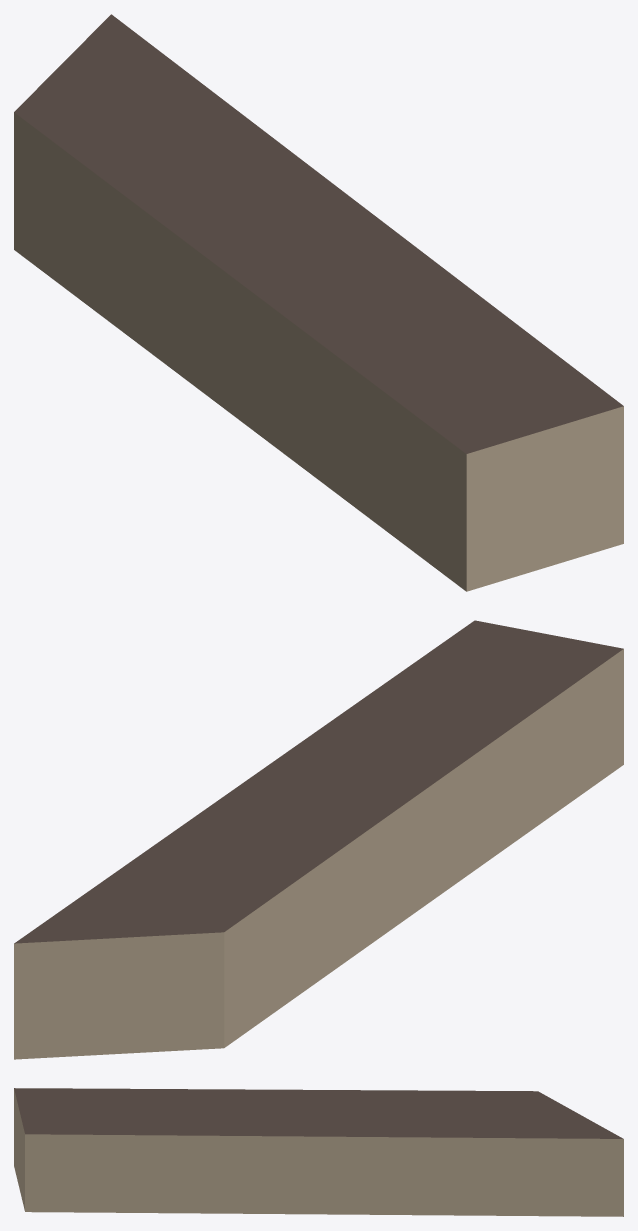
3 renders of one model, top to bottom at view 1: azimuth 30°, elevation 25°; view 2: azimuth 150°, elevation 25°; view 3: azimuth 270°, elevation 25°, orthographic. The views are drawn at different scales.
Parts seen in each view (by area): view 1: HP-w1512914155; view 2: HP-w1512914155; view 3: HP-w1512914155.
Part boxes in pixels (x1,y1,x2,y2): HP-w1512914155: [14, 14, 623, 591]; HP-w1512914155: [14, 620, 623, 1059]; HP-w1512914155: [14, 1088, 623, 1216].
Bounding box in the file's own units: 12.62 × 9 × 63.94.
